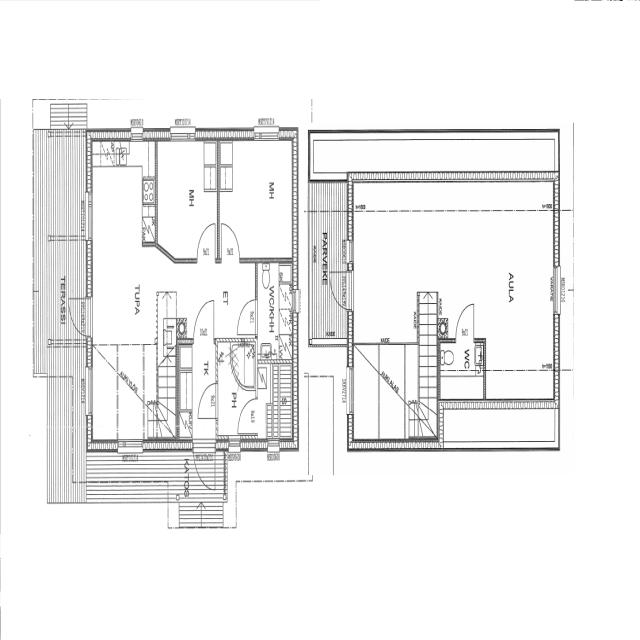door: (191, 439, 217, 497), (191, 295, 217, 340), (235, 393, 258, 438), (195, 218, 218, 261), (196, 377, 219, 419), (220, 218, 242, 261), (235, 293, 257, 336), (454, 300, 476, 341), (68, 296, 84, 333), (129, 117, 145, 142)
window: (552, 260, 563, 316), (168, 124, 196, 144), (346, 362, 356, 418), (254, 124, 282, 143), (118, 434, 145, 453), (130, 117, 144, 142), (227, 433, 243, 452), (266, 436, 281, 456), (292, 284, 298, 316)
zone: (473, 204, 556, 396), (90, 140, 154, 342), (218, 137, 296, 260), (154, 136, 218, 260), (89, 341, 159, 444), (350, 341, 420, 444), (256, 259, 294, 360), (216, 346, 257, 439), (256, 359, 296, 443), (440, 337, 485, 374), (233, 390, 258, 441)
